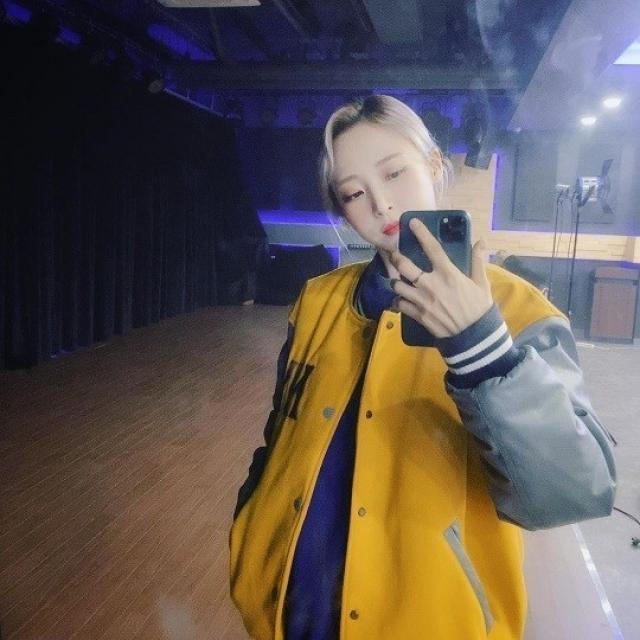phone: (399, 210, 472, 347)
